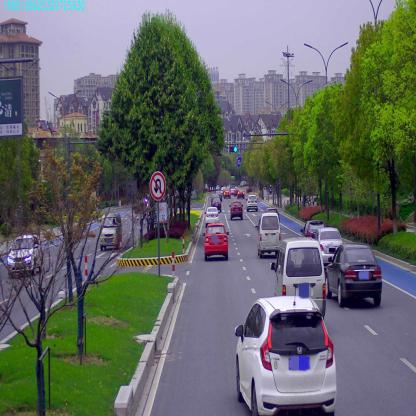traffic-light: (229, 144, 237, 153)
